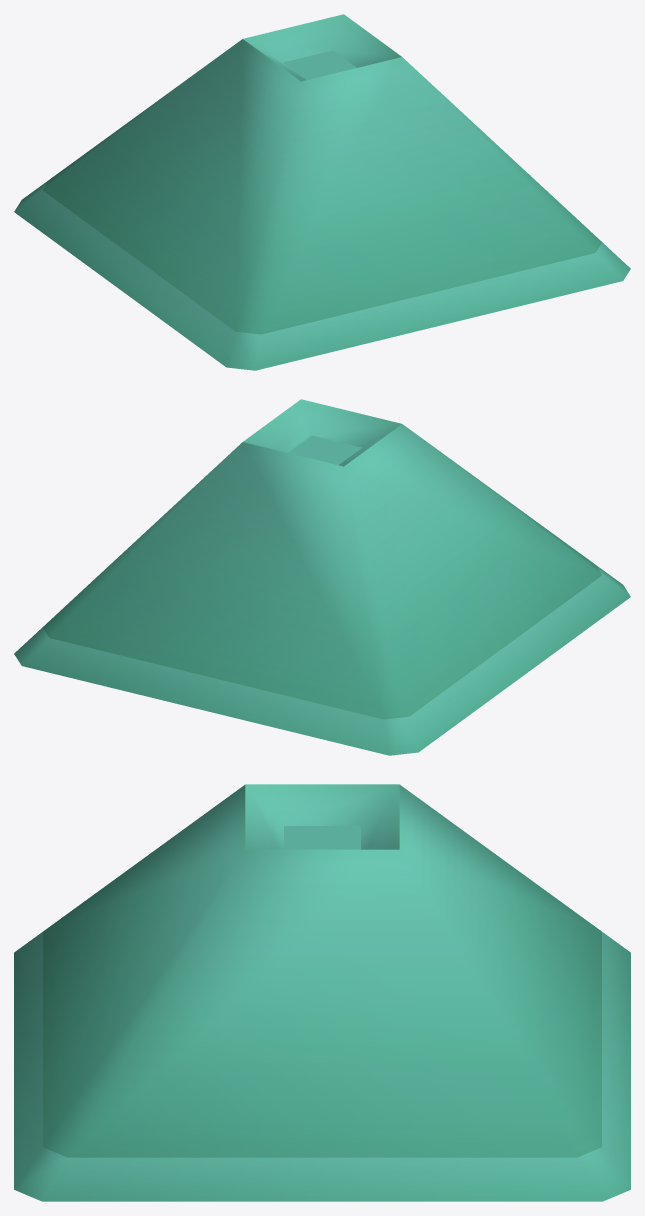
The model's file is roof-point.glb.
3 renders of one model, top to bottom at view 1: azimuth 30°, elevation 25°; view 2: azimuth 150°, elevation 25°; view 3: azimuth 270°, elevation 25°, orthographic. The views are drawn at different scales.
Visible parts, largest first — view 1: roof-point; view 2: roof-point; view 3: roof-point.
Boxes of the visible parts, <box> form: roof-point: <box>14,14,630,370</box>; roof-point: <box>14,399,630,755</box>; roof-point: <box>14,784,630,1201</box>.
Size of the model in its own units: 1.1 by 0.5 by 1.1.
1 material, 1 textured.
